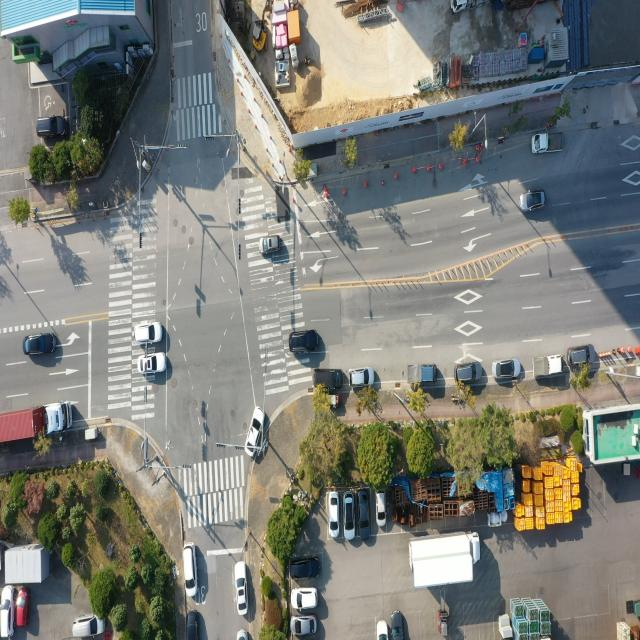car: (24, 332, 58, 358), (246, 406, 264, 454), (72, 614, 104, 640), (0, 588, 15, 640), (288, 330, 318, 355), (36, 116, 67, 140), (134, 323, 164, 347), (314, 368, 344, 392), (184, 542, 197, 597), (292, 558, 321, 582), (236, 562, 248, 616), (347, 365, 375, 388), (139, 351, 167, 374), (493, 358, 522, 380), (357, 490, 370, 538), (567, 345, 594, 368), (520, 189, 546, 212), (458, 361, 484, 384), (345, 493, 357, 540), (292, 589, 317, 611), (15, 586, 28, 628), (328, 493, 339, 539), (291, 618, 316, 638), (261, 236, 283, 254), (186, 609, 198, 640), (392, 612, 404, 640), (376, 492, 386, 525), (378, 621, 390, 640)
large_truck: (0, 402, 73, 446)
medium_truck: (406, 533, 480, 589), (452, 0, 483, 14)
small_truck: (403, 361, 438, 385), (532, 354, 564, 379), (531, 132, 564, 154)
